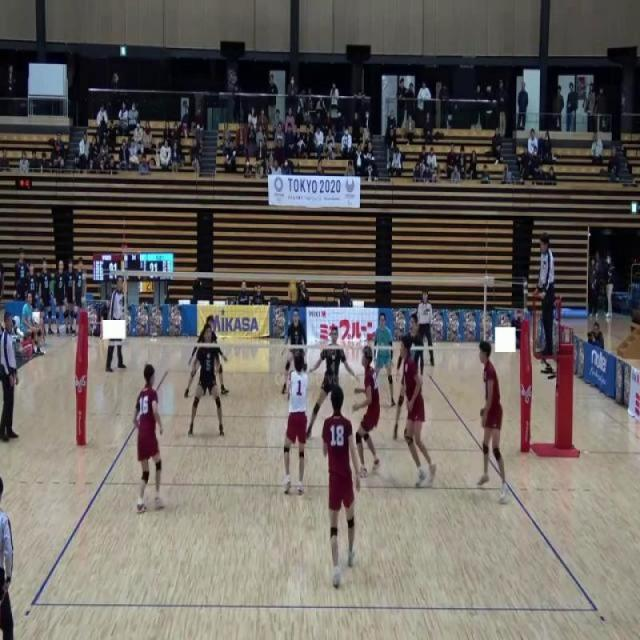volleyball: (287, 282, 298, 302)
